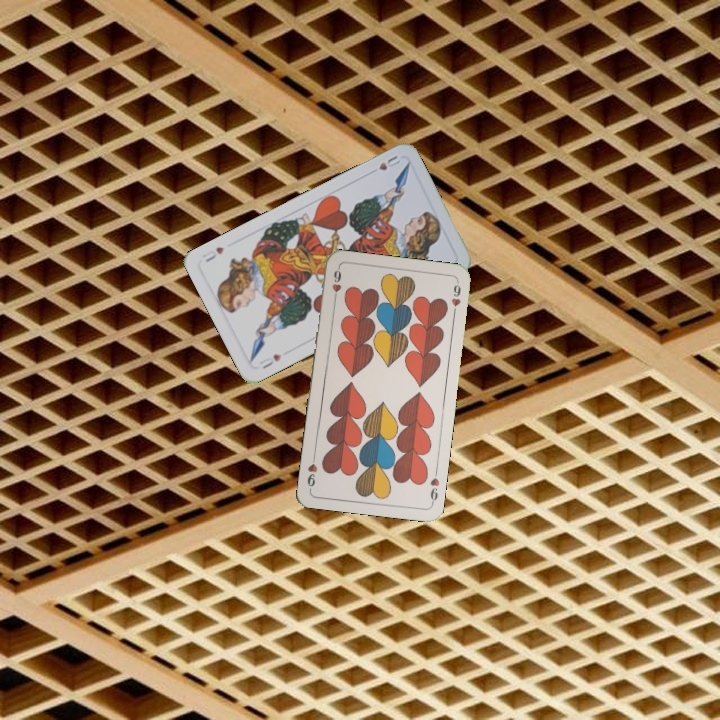H9: (328, 264, 344, 305), (426, 466, 442, 506)
HU: (375, 151, 403, 173), (255, 350, 284, 371)
